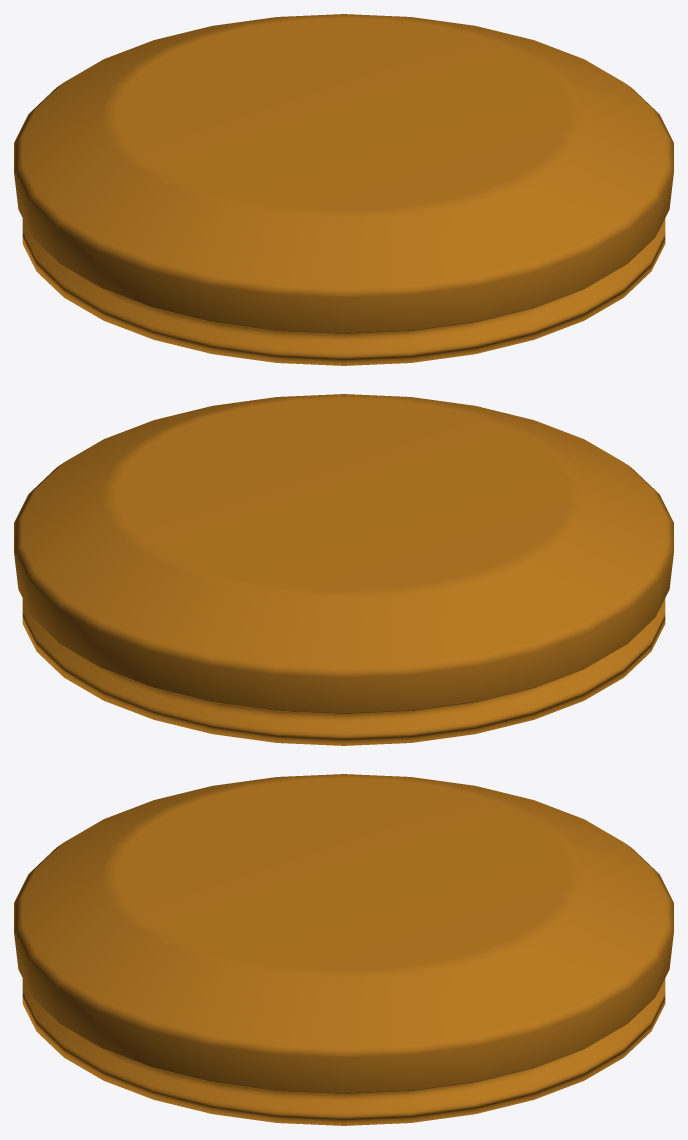
Rendered from Bumper_A.fbx.
3 views of the same model, one above another, from view 1: azimuth 30°, elevation 25°; view 2: azimuth 150°, elevation 25°; view 3: azimuth 270°, elevation 25° (orthographic).
Parts seen in each view (by area): view 1: Bumper_A; view 2: Bumper_A; view 3: Bumper_A.
Part boxes in pixels (x1,y1,x2,y2): Bumper_A: [14, 14, 673, 365]; Bumper_A: [14, 394, 673, 745]; Bumper_A: [14, 774, 673, 1125].
Size of the model in its own units: 6.47 by 1.24 by 6.44.
